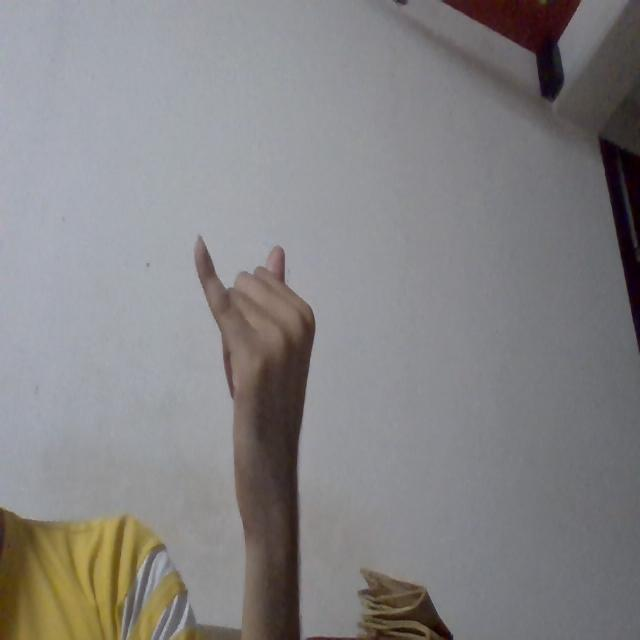J: (179, 155, 354, 549)
